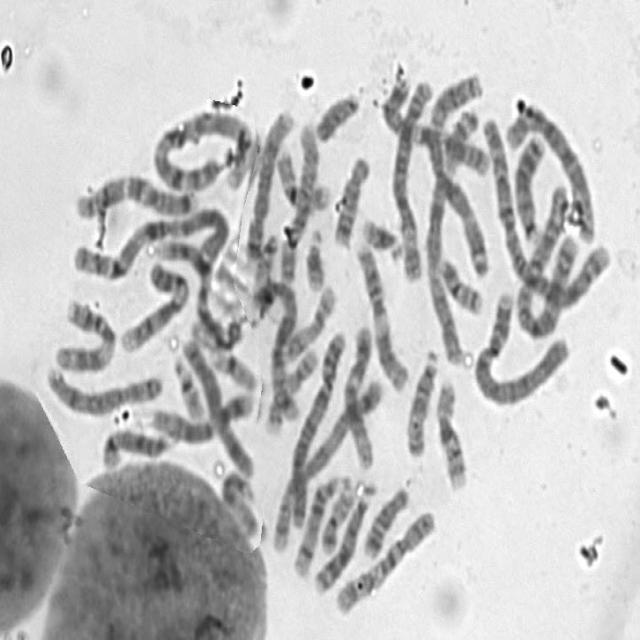A1: (70, 199, 236, 288), (148, 102, 257, 194)
A2: (478, 109, 609, 316), (497, 94, 596, 253)
A3: (422, 106, 482, 374), (422, 94, 491, 279)
B4: (270, 324, 349, 556), (473, 287, 573, 408)
B5: (264, 368, 384, 552), (250, 269, 302, 427)
C10: (331, 502, 438, 616), (275, 120, 321, 284)
C11: (352, 236, 412, 395), (50, 292, 118, 375)
C12: (149, 387, 255, 445), (339, 319, 376, 469)
C6: (505, 96, 597, 245), (386, 73, 435, 283)
C7: (379, 70, 495, 179), (70, 168, 199, 220)
C8: (241, 102, 296, 268), (41, 358, 164, 417)
C9: (151, 238, 242, 352), (116, 256, 192, 354)
D13: (309, 474, 378, 596), (509, 128, 546, 245)
D14: (289, 469, 355, 579), (99, 421, 176, 471)
D15: (403, 342, 441, 460), (217, 463, 260, 540)
E16: (432, 373, 471, 492), (272, 143, 332, 213)
E17: (260, 340, 320, 436), (280, 279, 337, 364)
E18: (330, 148, 373, 248), (360, 479, 410, 561)
F19: (206, 343, 258, 392), (223, 116, 254, 192)
F20: (435, 250, 484, 316), (317, 476, 356, 556)
G21: (358, 210, 406, 264), (301, 222, 328, 293)
G22: (169, 348, 207, 421), (250, 230, 282, 292)
X: (175, 330, 258, 480)
Y: (312, 84, 361, 144)
